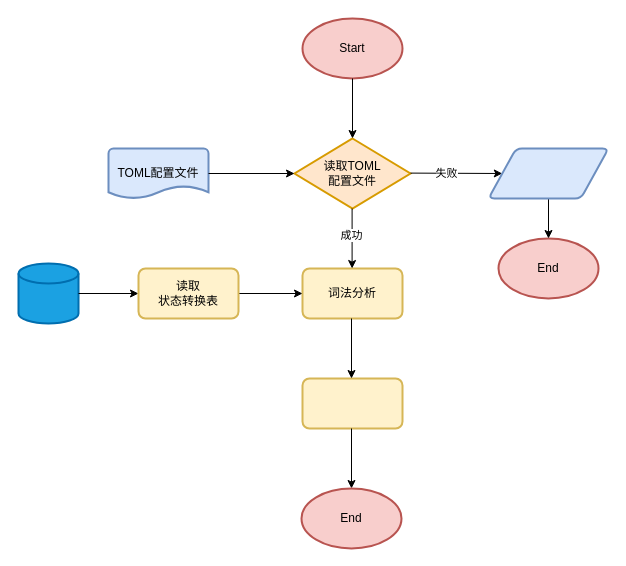
Image size: 626x566. Some labels were removed from this diagram. Each missing label, with the box of its shape:
petunia: (17, 262, 79, 324)
打印错误信息: (487, 147, 609, 199)
语法分析: (301, 377, 403, 429)
